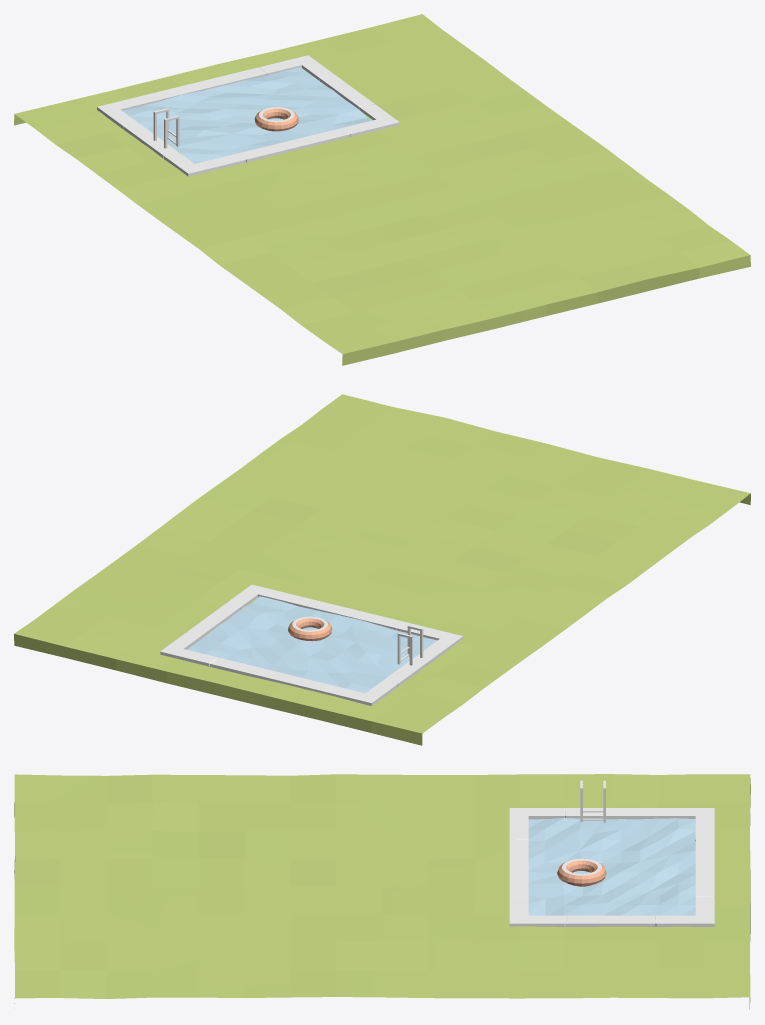
Rendered from house-yellowgrass.glb.
3 renders of one model, top to bottom at view 1: azimuth 30°, elevation 25°; view 2: azimuth 150°, elevation 25°; view 3: azimuth 270°, elevation 25°, orthographic. The views are drawn at different scales.
Visible parts, largest first — view 1: Grass_10; view 2: Grass_10; view 3: Grass_10.
Part boxes in pixels (x1,y1,x2,y2): Grass_10: (14,14,750,365); Grass_10: (14,394,750,745); Grass_10: (14,774,750,1009).
Bounding box in the file's own units: 2.83 × 0.285 × 3.95.
